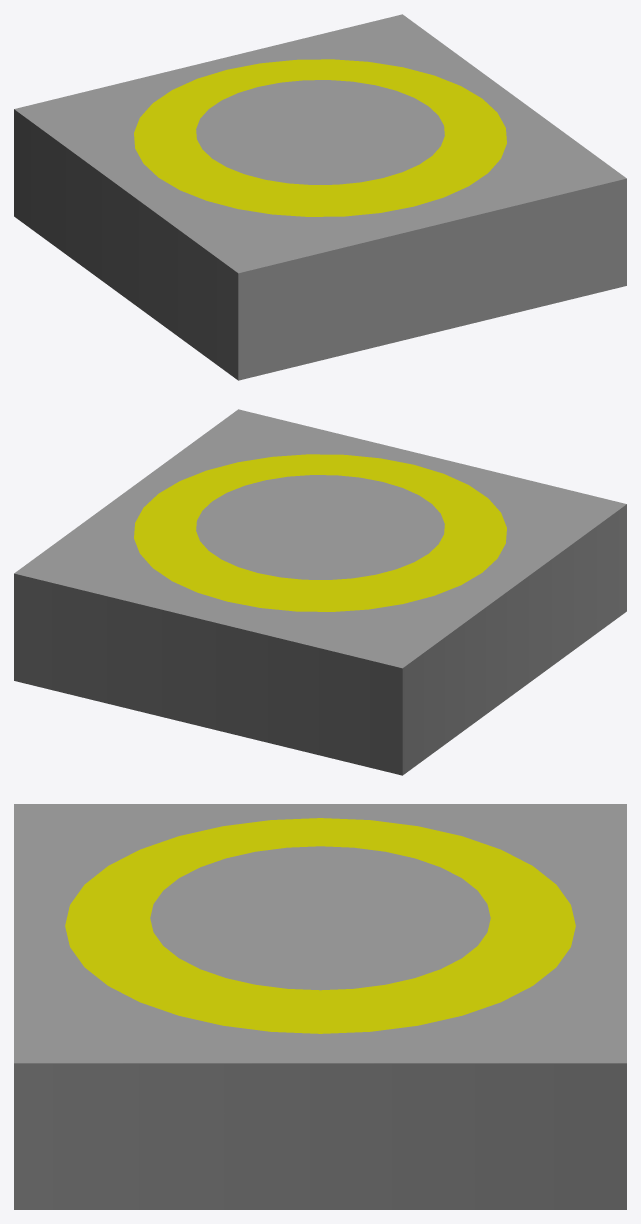
Rendered from building-32.glb.
The picture shows the model from 3 angles, top to bottom: view 1: azimuth 30°, elevation 25°; view 2: azimuth 150°, elevation 25°; view 3: azimuth 270°, elevation 25°; orthographic projection. The views are drawn at different scales.
Visible parts, largest first — view 1: mesh0; view 2: mesh0; view 3: mesh0.
Boxes of the visible parts, x1,y1,x2,y2 form: mesh0: (14,14,626,380); mesh0: (14,409,626,775); mesh0: (14,804,626,1209).
Bounding box in the file's own units: 0.72 × 0.21 × 0.72.
